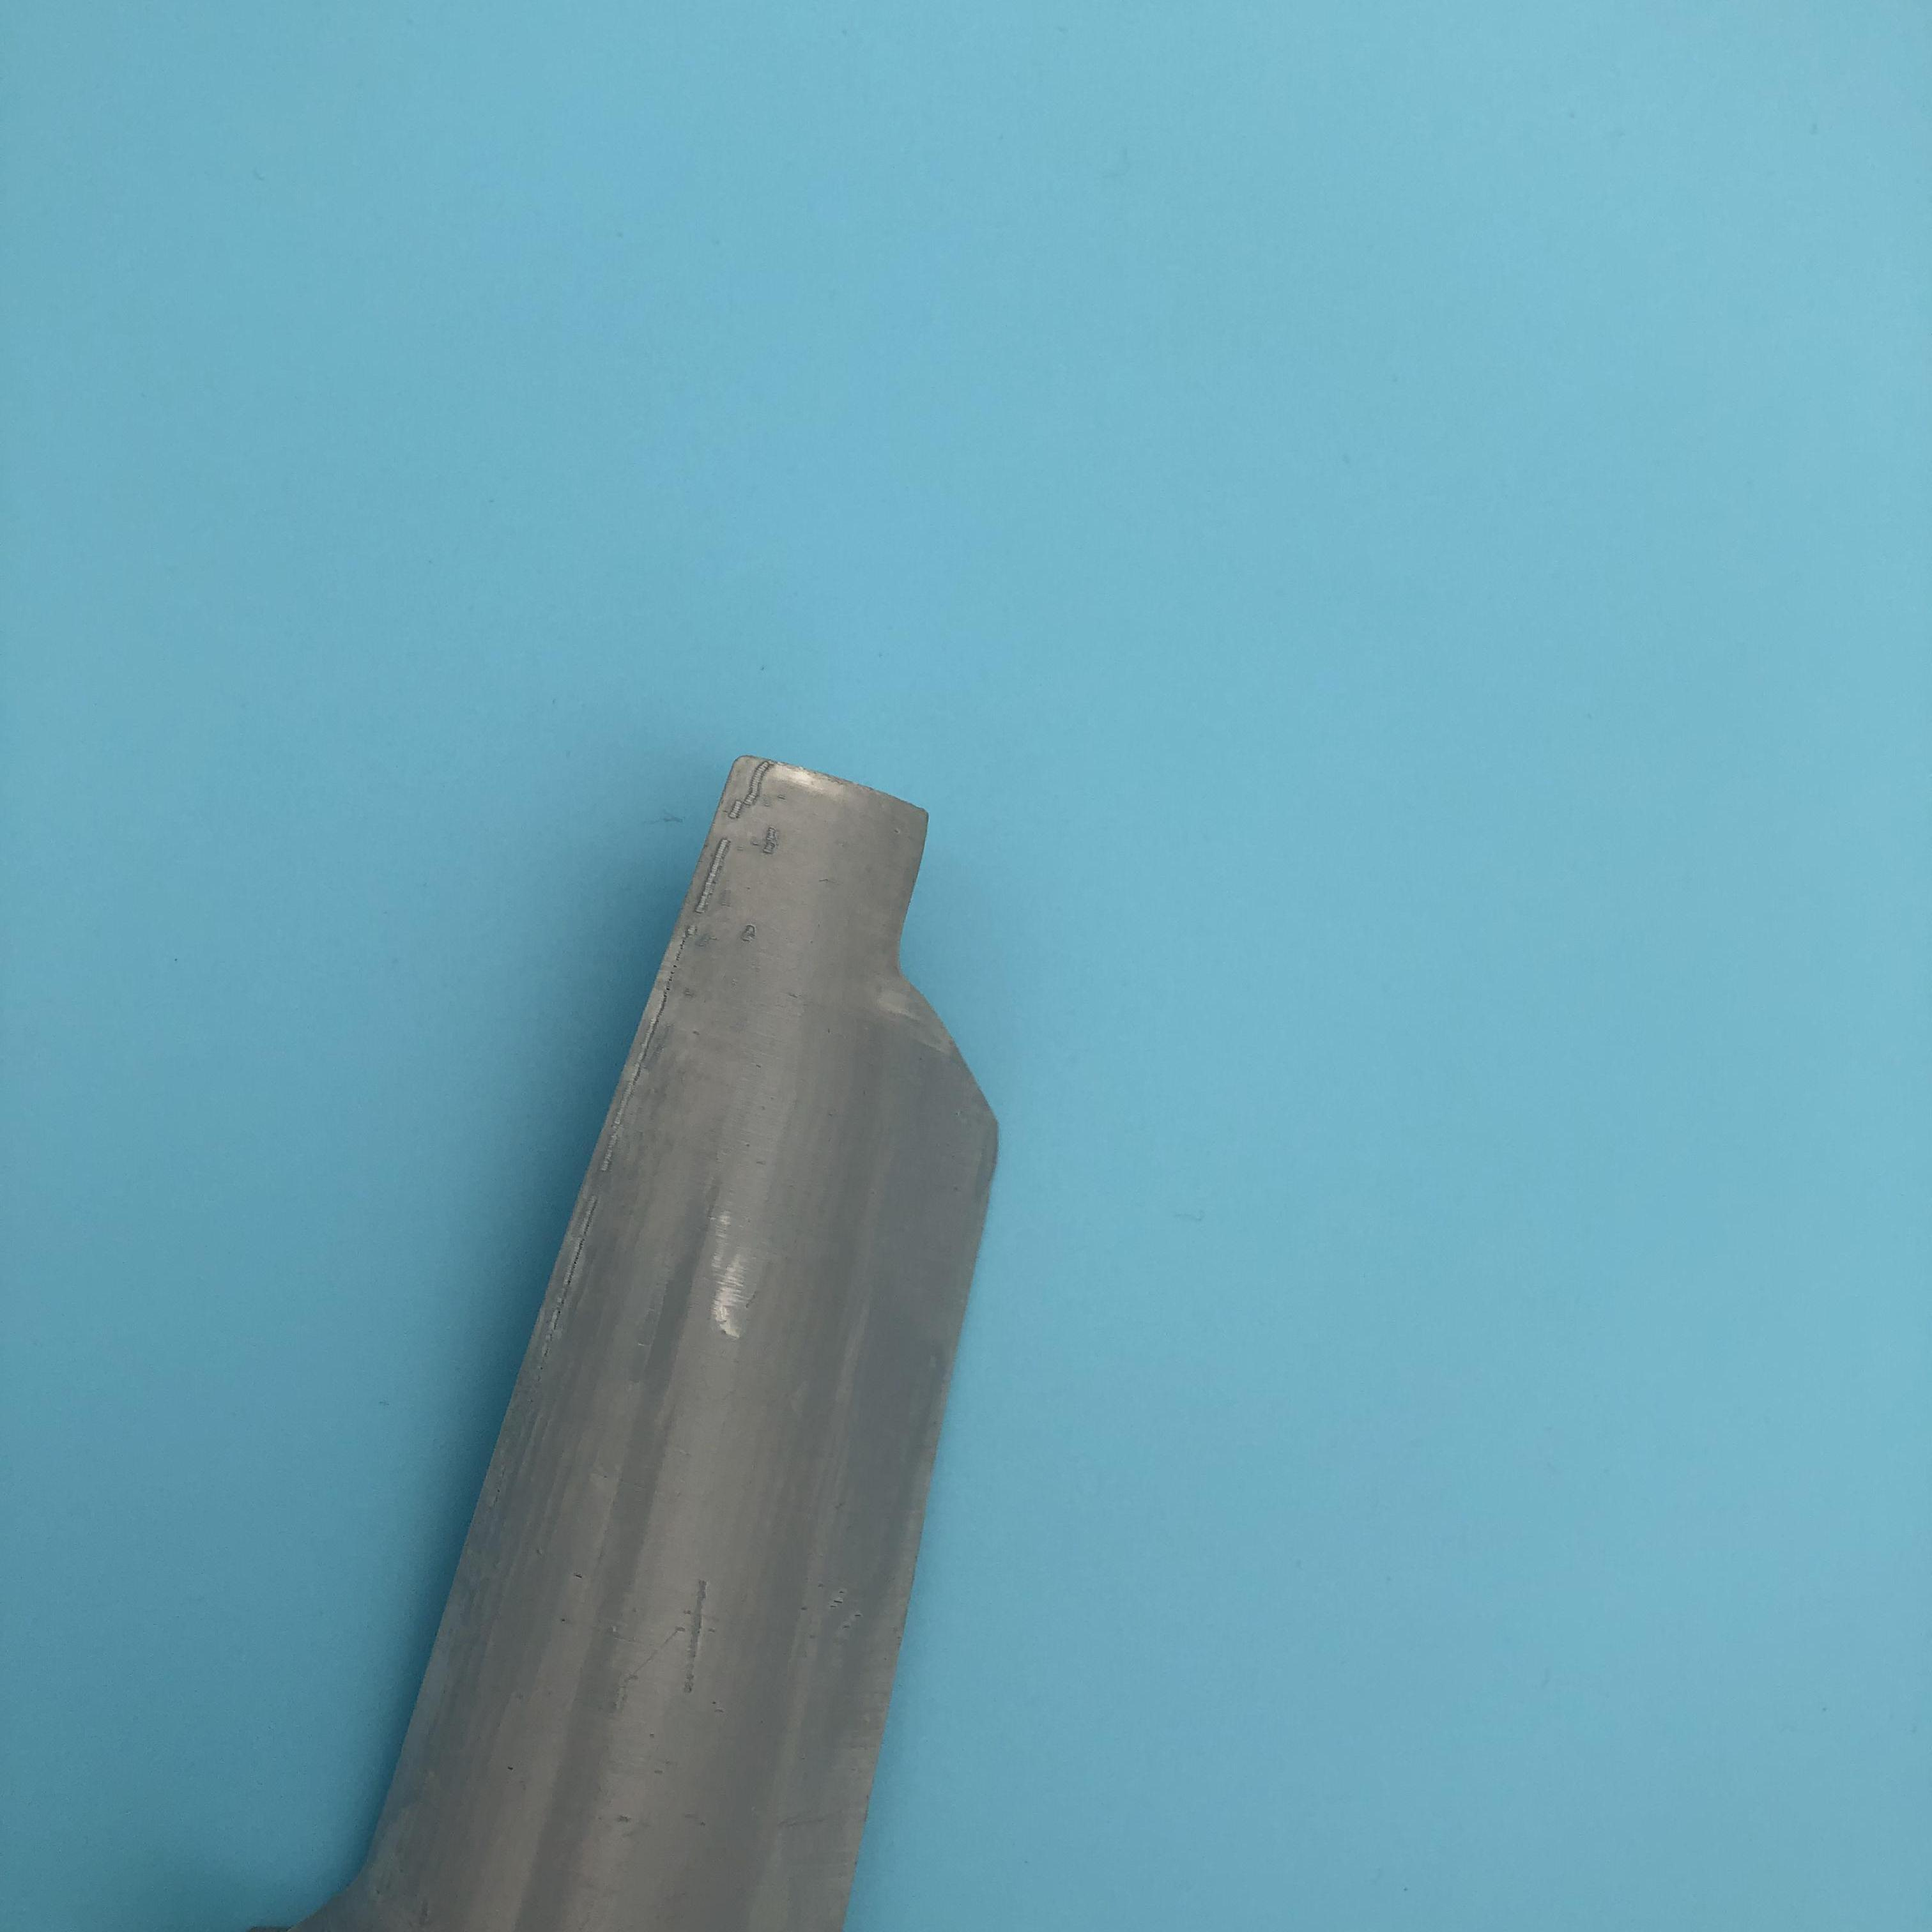fracture: (897, 800, 1019, 1145)
